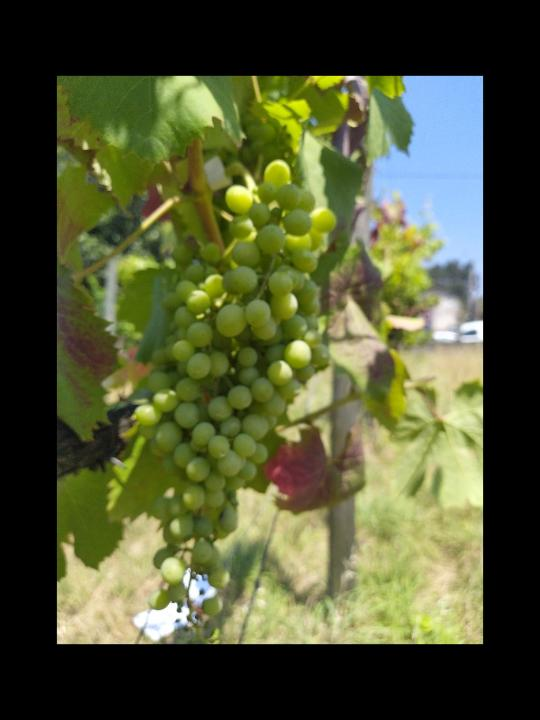grape: (133, 160, 337, 641)
